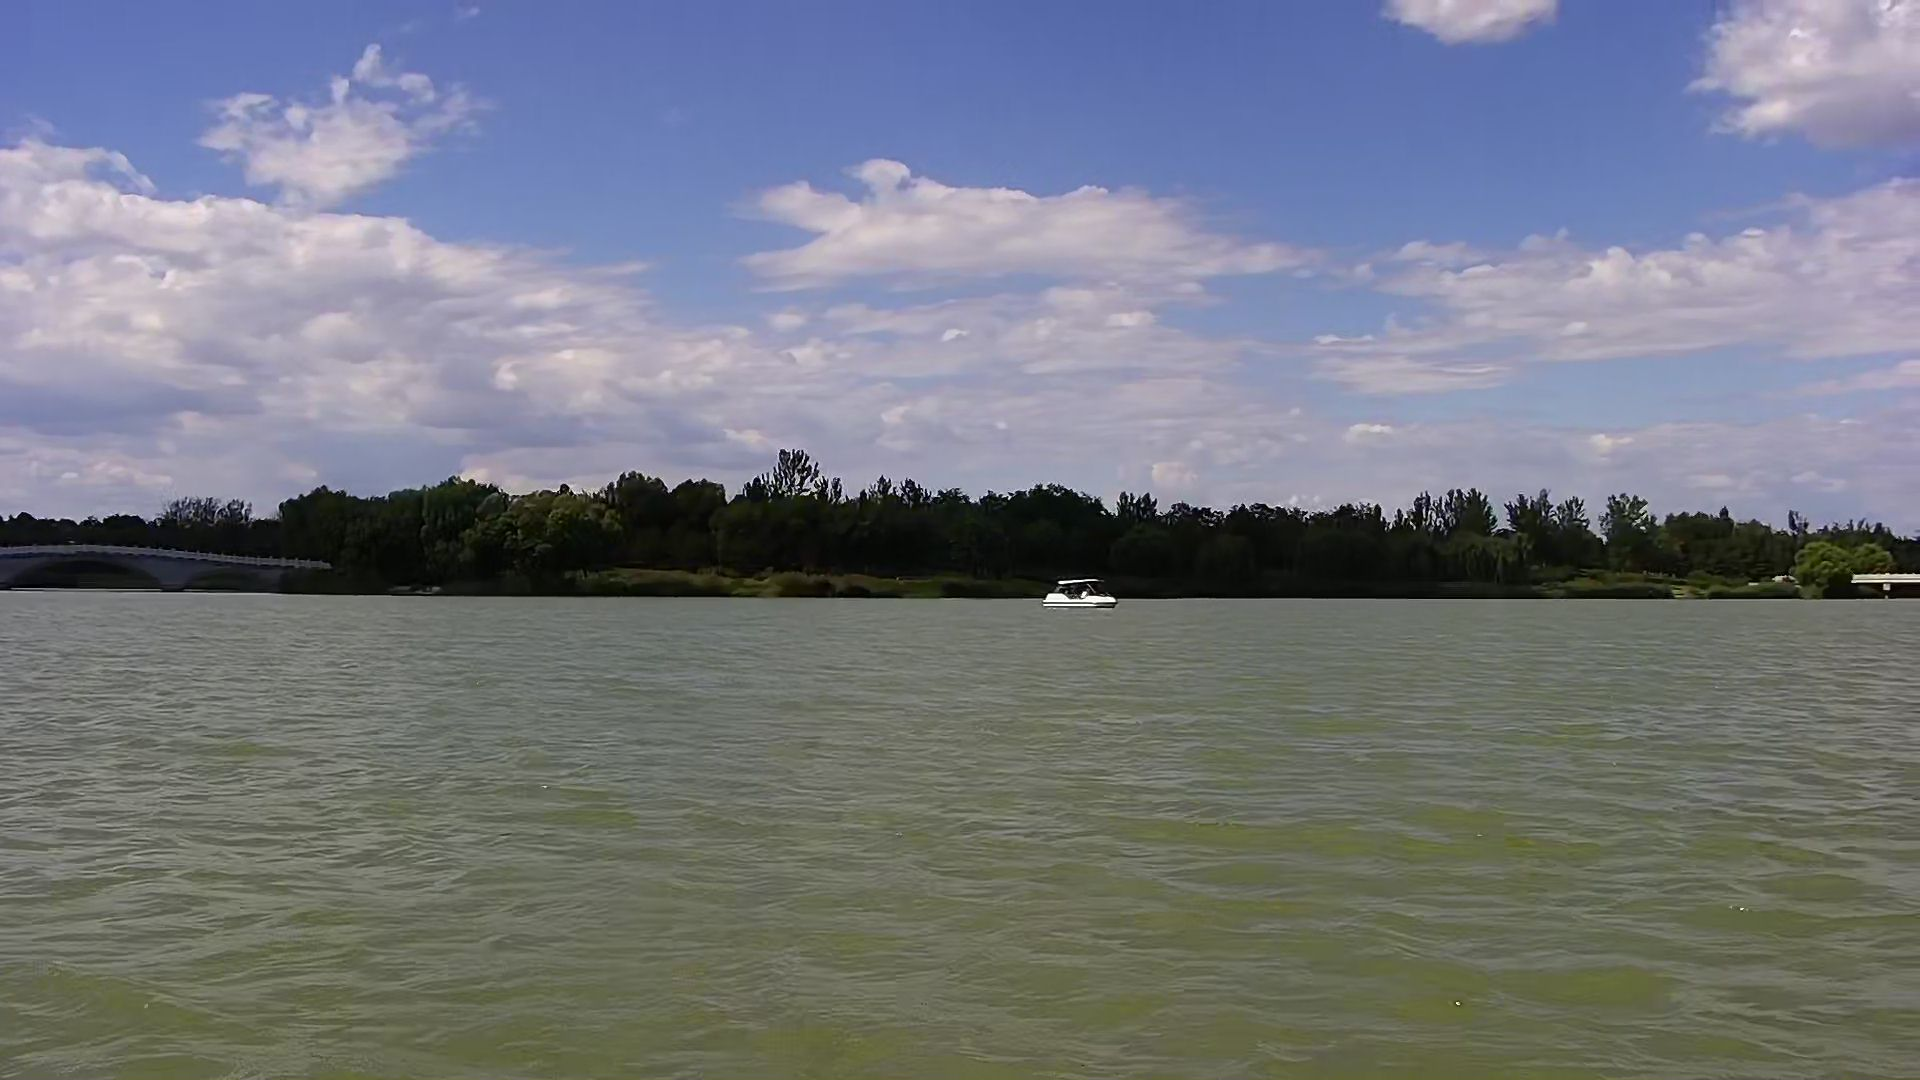boat: (1043, 570, 1124, 617)
bridge: (1, 538, 318, 597)
